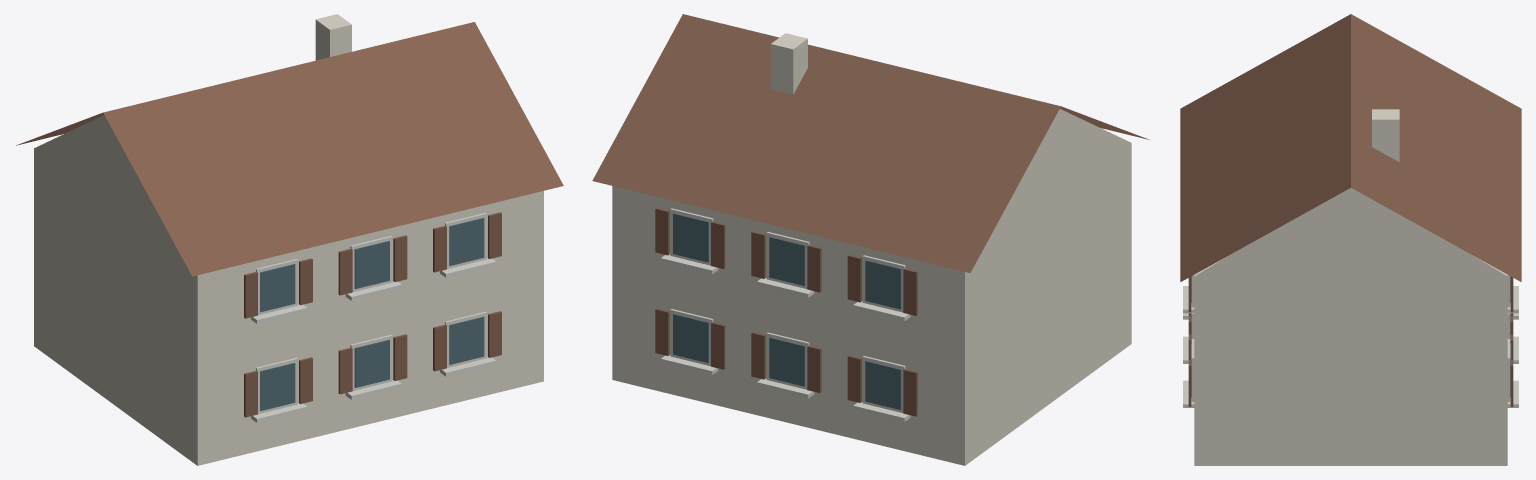
Rendered from House_0_LOD0.glb.
3 views of the same model, side by side, from view 1: azimuth 30°, elevation 25°; view 2: azimuth 150°, elevation 25°; view 3: azimuth 270°, elevation 25° (orthographic). The views are drawn at different scales.
Visible parts, largest first — view 1: House_0_LOD0; view 2: House_0_LOD0; view 3: House_0_LOD0.
Part boxes in pixels (x1=…): House_0_LOD0: x1=16, y1=14, x2=563, y2=465; House_0_LOD0: x1=592, y1=14, x2=1149, y2=465; House_0_LOD0: x1=1180, y1=14, x2=1521, y2=465.
Bounding box in the file's own units: 11.8 × 9.5 × 9.8.
